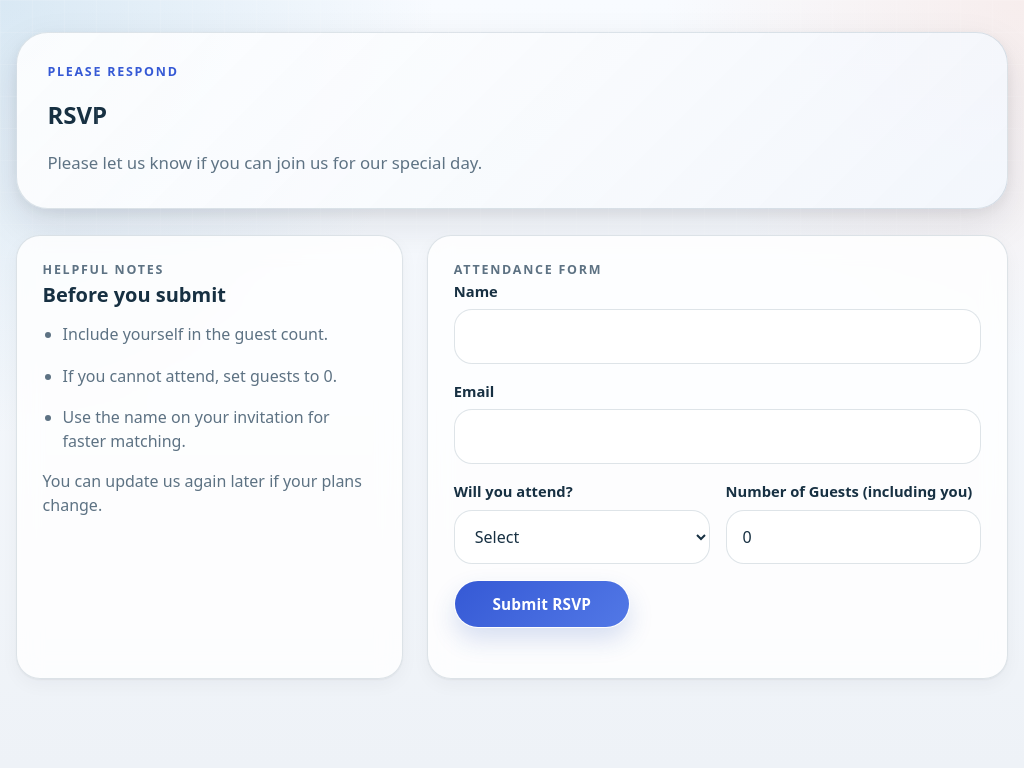
Test: RSVP Page › loads guest names into name autofill suggestions
The image size is (1024, 768).
Type "Ja" into the field labelled "Name". click: [718, 337]
box: [454,309,981,364]
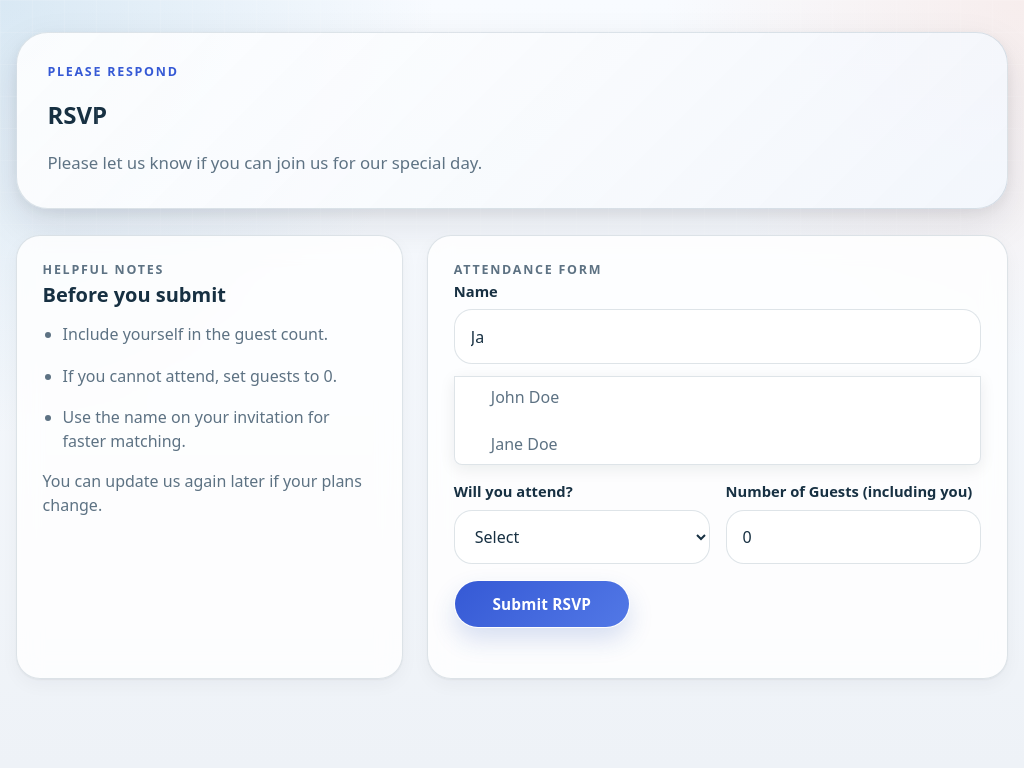
Expected: the list item "John Doe" is shown, [491,386,559,408]
Expected: the list item "Jane Doe" is shown, [491,433,558,455]
